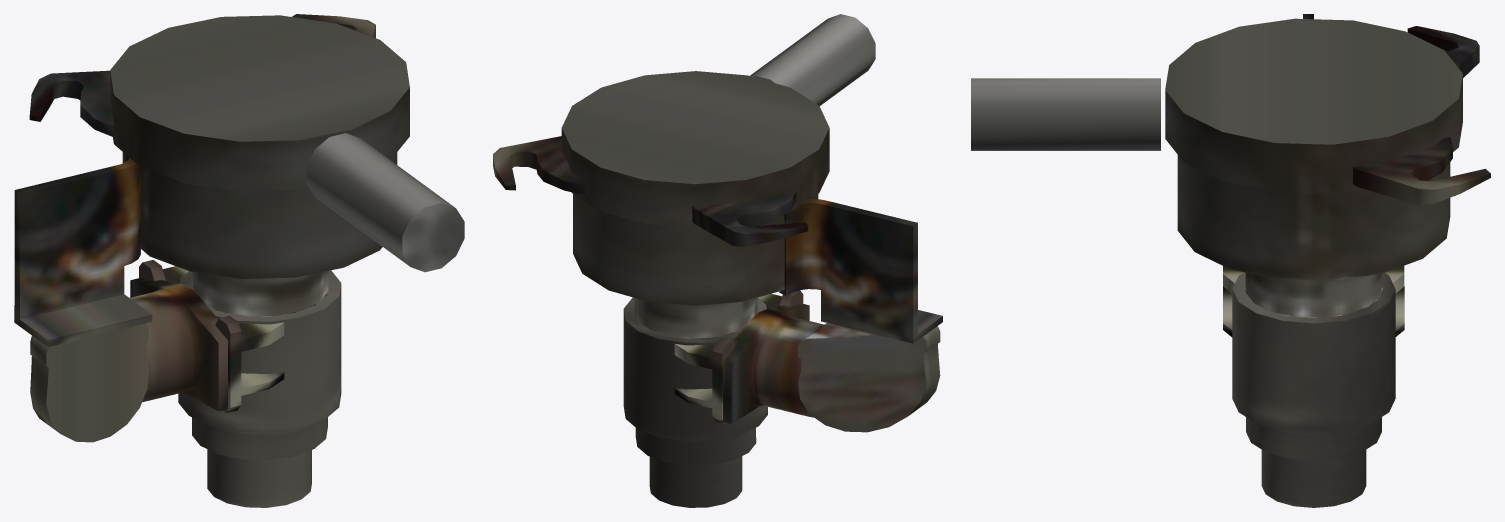
Rendered from Body_ArmWrist.dae.
3 views of the same model, side by side, from view 1: azimuth 30°, elevation 25°; view 2: azimuth 150°, elevation 25°; view 3: azimuth 270°, elevation 25° (orthographic). The views are drawn at different scales.
Parts seen in each view (by area): view 1: arm_04.001; view 2: arm_04.001; view 3: arm_04.001.
Boxes of the visible parts, bbox=[...] form: arm_04.001: bbox=[14, 14, 464, 507]; arm_04.001: bbox=[493, 14, 942, 507]; arm_04.001: bbox=[971, 14, 1490, 507].
Bounding box in the file's own units: 0.3073 × 0.3364 × 0.2888.
2 materials, 2 textured.
